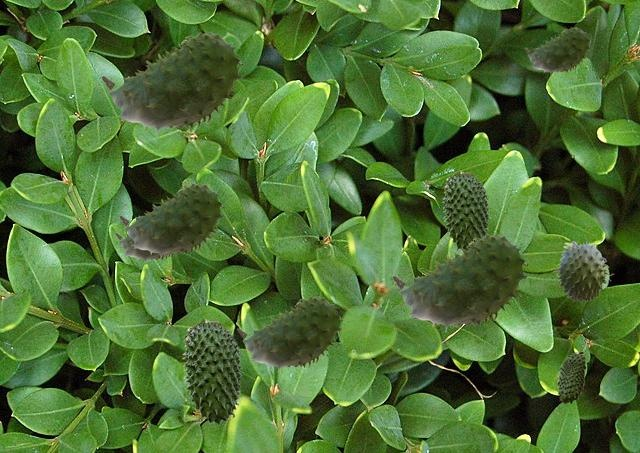guyabano: (101, 32, 242, 134), (392, 234, 527, 331), (237, 296, 341, 371), (119, 183, 223, 258), (182, 318, 242, 424), (442, 170, 489, 250), (553, 240, 613, 301), (524, 27, 590, 74), (115, 232, 173, 262), (557, 351, 585, 403)
